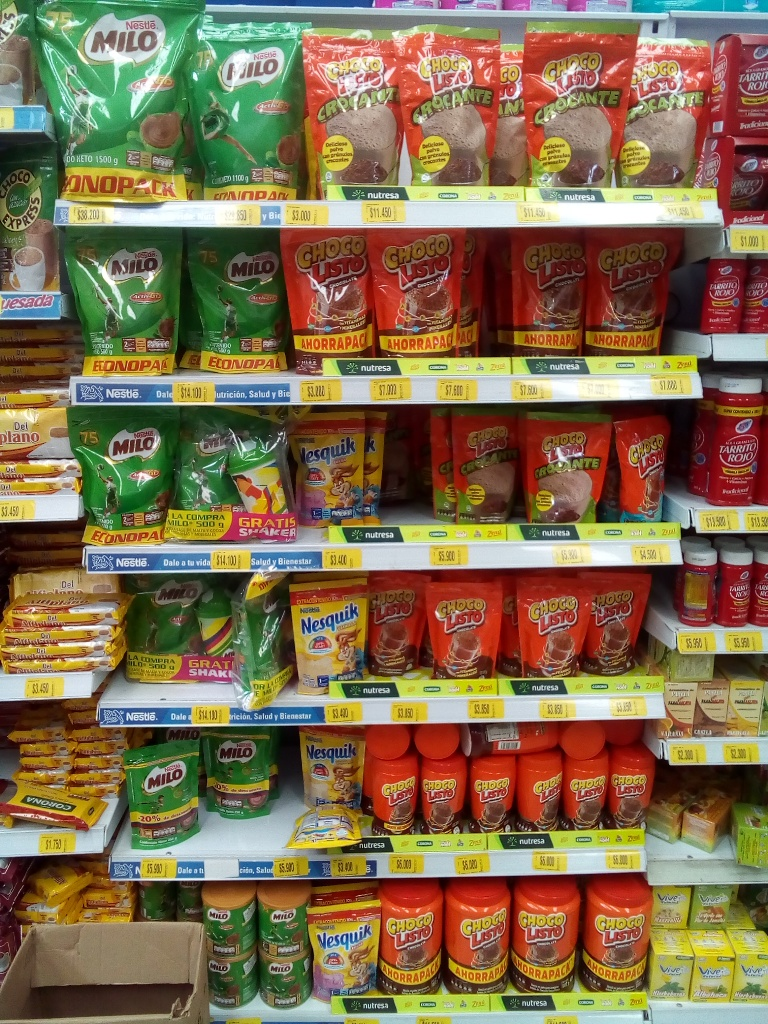COL0170102DYP25000: (452, 403, 521, 524)
COL0170102DYP50000: (307, 27, 403, 187)
COL0170103DYP20000: (369, 577, 428, 683)
COL0170103DYP40000: (281, 230, 381, 373)
COL0170103TRR00100: (373, 885, 453, 995)
COL0170103TRR30000: (468, 724, 558, 754)
COL0170104DYP20000: (621, 420, 677, 521)
COL0170203DYP25000: (126, 748, 205, 853)
COL0170203DYP50000: (66, 231, 186, 373)
COL0170203LAT40000: (204, 885, 256, 947)
